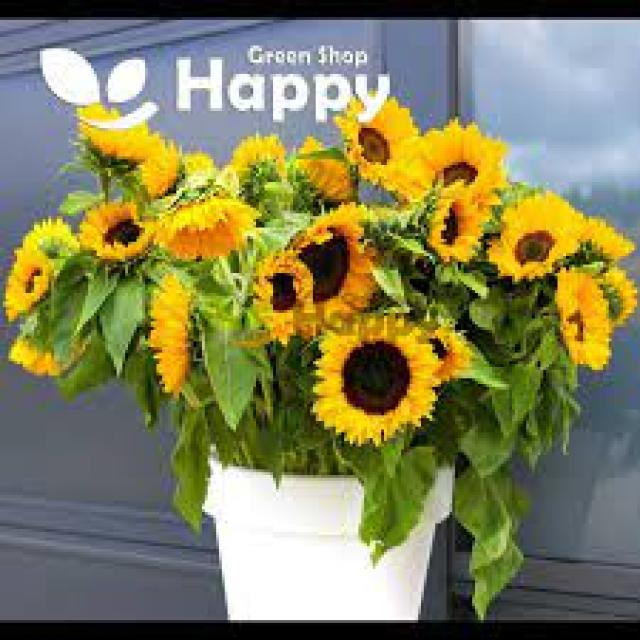sunflower: (310, 306, 446, 456), (266, 196, 378, 337), (392, 117, 514, 220), (332, 77, 428, 204), (136, 191, 264, 267), (60, 98, 164, 180), (142, 271, 209, 394), (548, 262, 620, 373), (246, 250, 321, 351), (485, 212, 585, 286), (8, 298, 95, 381), (74, 196, 168, 269), (284, 134, 366, 216), (422, 175, 491, 272), (499, 182, 591, 246), (5, 237, 65, 330), (216, 125, 288, 202), (406, 313, 480, 387), (128, 128, 182, 204), (174, 147, 243, 204), (586, 256, 640, 327), (16, 215, 79, 270), (577, 213, 640, 264)
